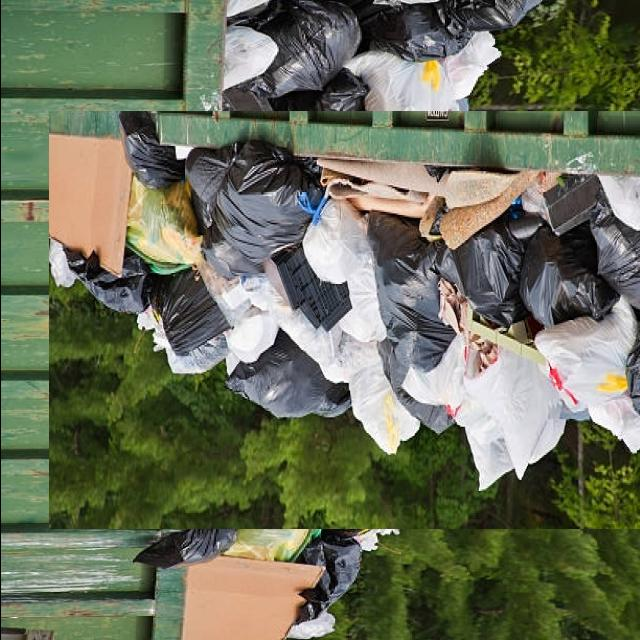garbage: (102, 55, 632, 585)
